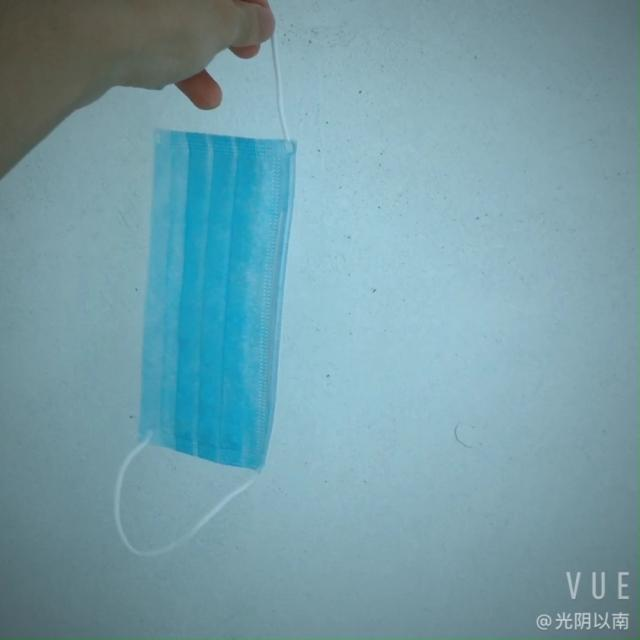non-organic waste: (117, 103, 319, 473)
